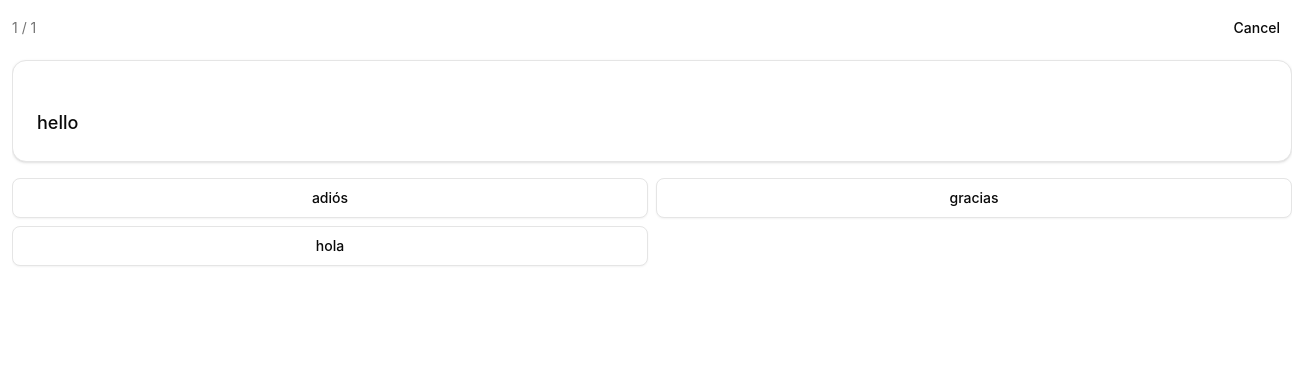
Test: LearnPage › shows session summary after last item
This screenshot has width=1304, height=373.
Click the button "hola" at (330, 246), box [12, 226, 648, 266]
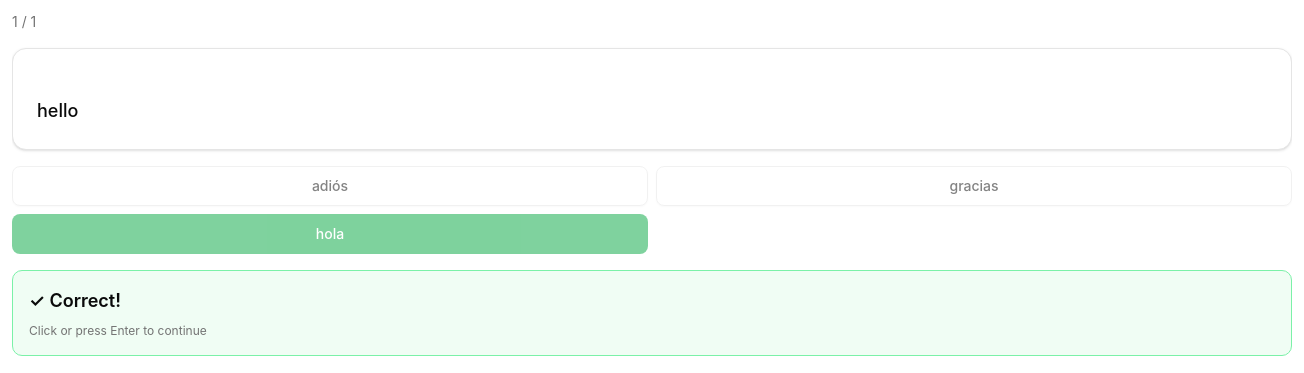
Click the button with aria-label "click to continue" at (75, 300), box [12, 270, 1292, 356]
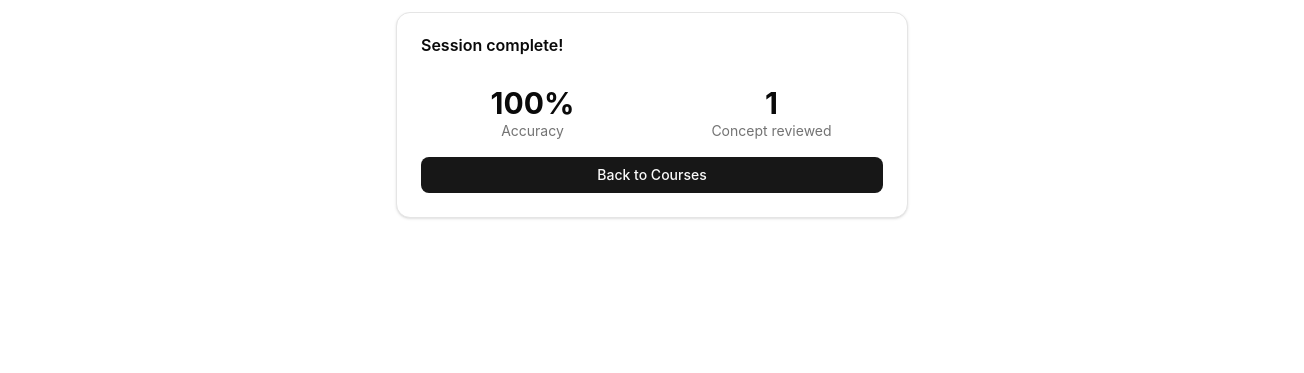
Check: the text "Session complete!" is shown, box [421, 35, 563, 55]
Check: the text "100%" is shown, box [491, 85, 574, 121]
